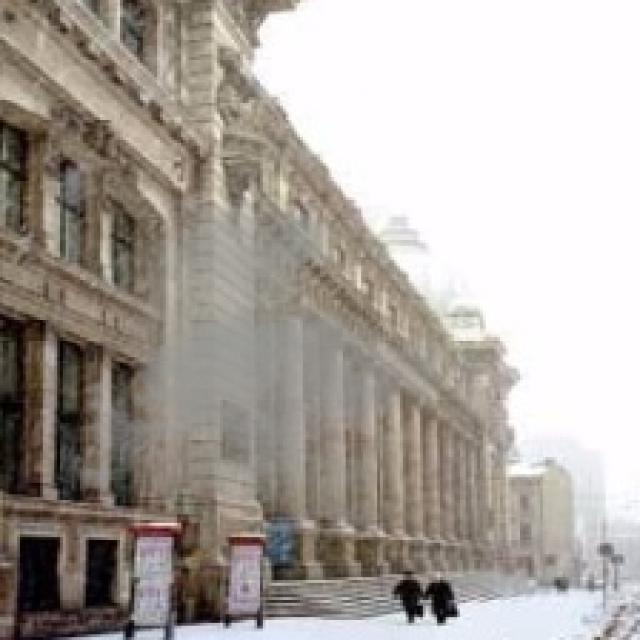Smoke: (57, 192, 463, 537)
